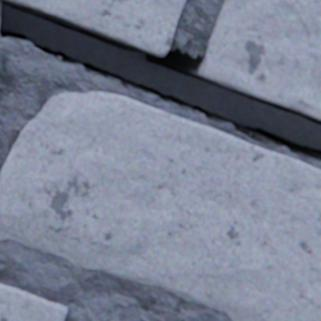brick: (0, 91, 320, 320), (199, 0, 320, 119), (6, 0, 184, 56), (0, 282, 67, 320), (0, 50, 6, 68)
crack: (0, 0, 320, 161)
